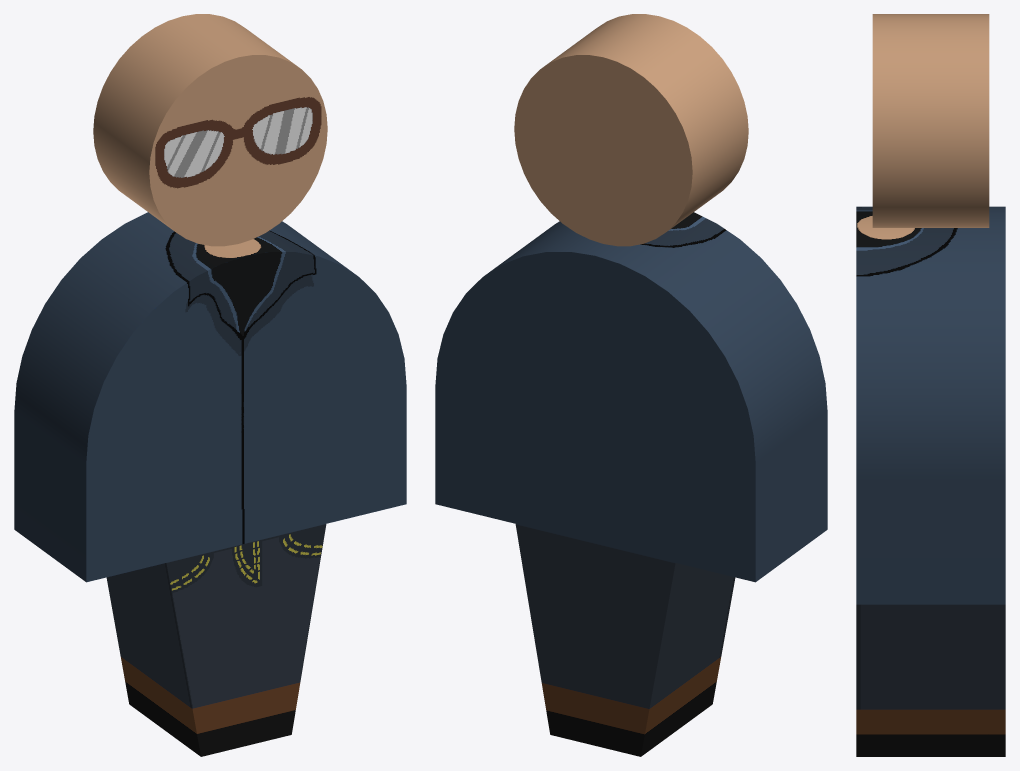
Rendered from hong.fbx.
3 views of the same model, side by side, from view 1: azimuth 30°, elevation 25°; view 2: azimuth 150°, elevation 25°; view 3: azimuth 270°, elevation 25° (orthographic). The views are drawn at different scales.
Parts seen in each view (by area): view 1: hong; view 2: hong; view 3: hong.
Part boxes in pixels (x1,y1,x2,y2): hong: [14, 14, 406, 756]; hong: [435, 14, 827, 756]; hong: [856, 14, 1005, 756].
Size of the model in its own units: 1.13 by 2.31 by 0.4411.
Materials: 1 (1 with a texture image).
